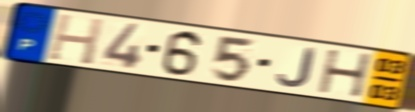4: (101, 22, 145, 71)
5: (207, 34, 258, 84)
6: (161, 29, 205, 78)
H: (45, 12, 107, 67), (316, 48, 375, 99)
J: (275, 46, 317, 89)
